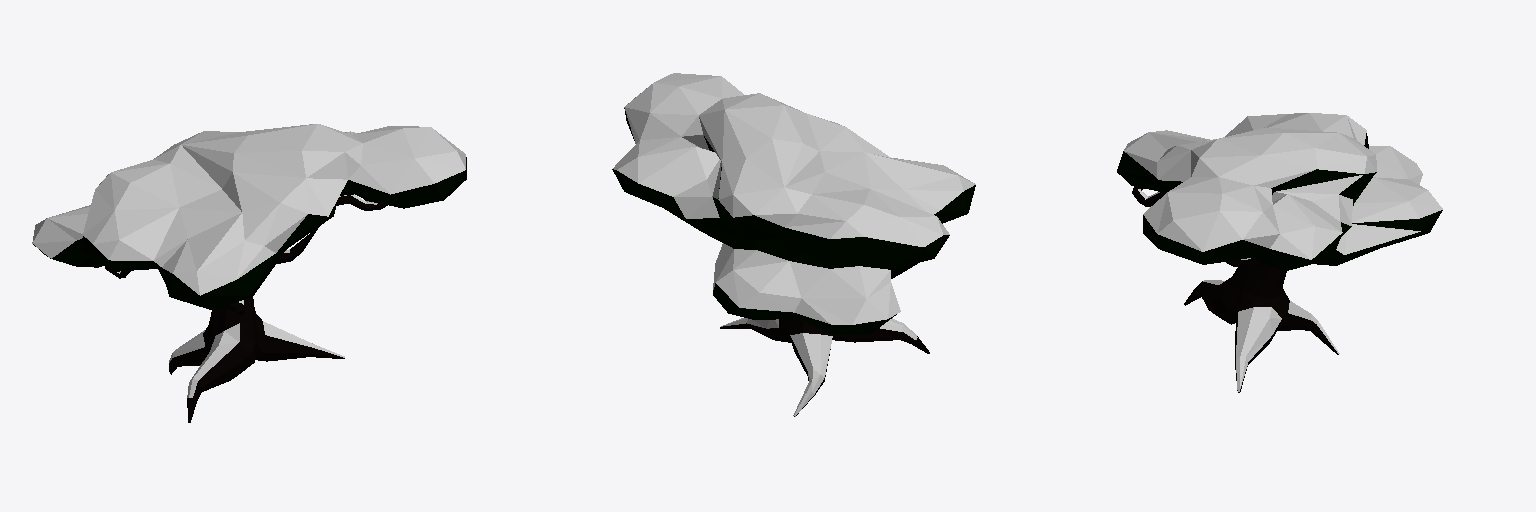
The model's file is Tree_2_Winter.obj.
3 renders of one model, left to right at view 1: azimuth 30°, elevation 25°; view 2: azimuth 150°, elevation 25°; view 3: azimuth 270°, elevation 25°, orthographic.
Parts seen in each view (by area): view 1: Tree_2_Winter_Mesh.004; view 2: Tree_2_Winter_Mesh.004; view 3: Tree_2_Winter_Mesh.004.
Boxes of the visible parts, <box> form: Tree_2_Winter_Mesh.004: <box>32,124,466,422</box>; Tree_2_Winter_Mesh.004: <box>612,73,975,416</box>; Tree_2_Winter_Mesh.004: <box>1117,113,1442,392</box>.
Bounding box in the file's own units: 9.71 × 6.83 × 7.99.